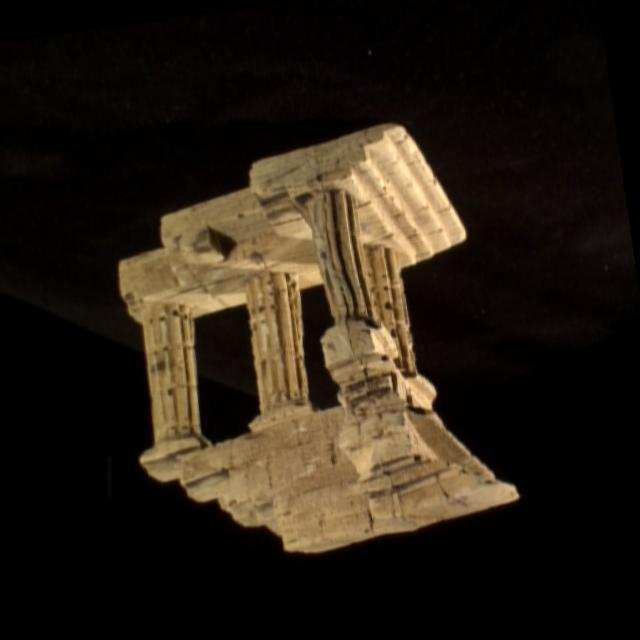Instance-Segmentation: (119, 123, 517, 550)
